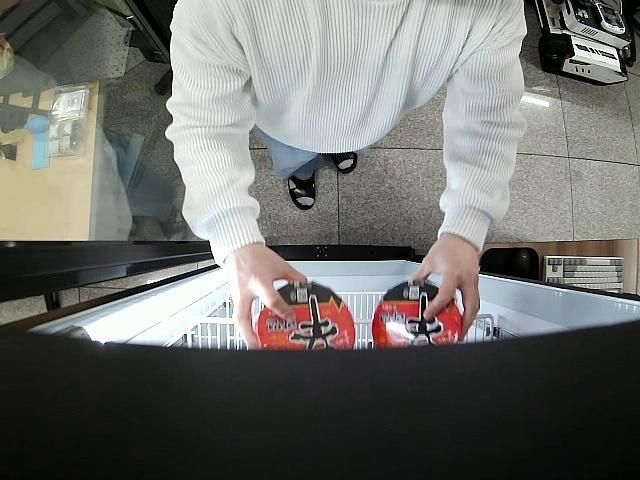01_ShinRamen_L: (258, 278, 354, 350), (370, 281, 461, 347)
